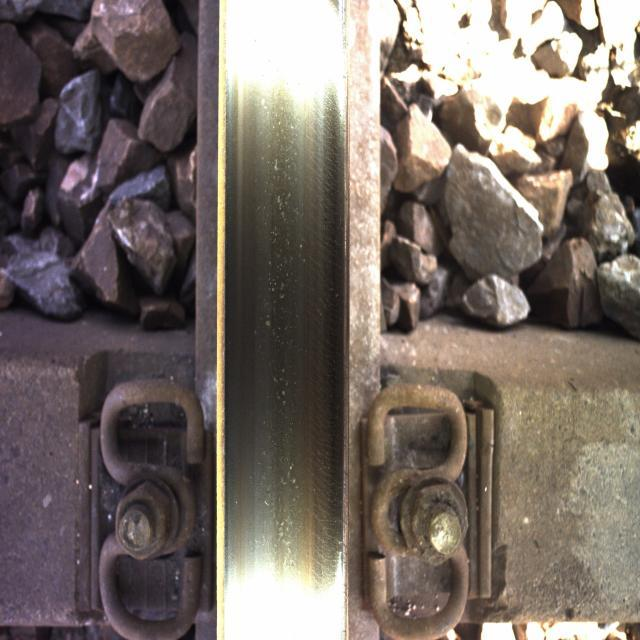normal: (234, 33, 332, 615)
